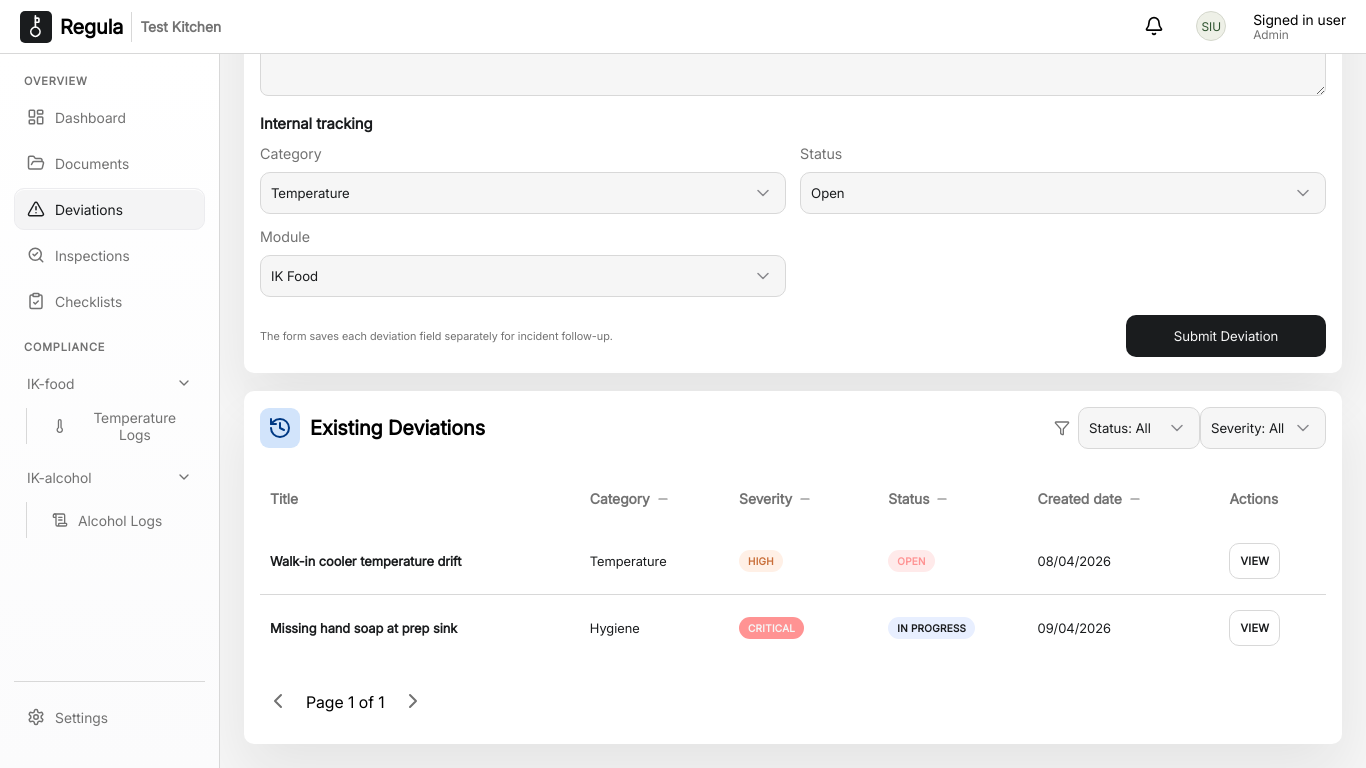
Test: Deviation view › opens deviation details and resolves an existing deviation
The image size is (1366, 768).
(page scrolled)
Click the button "View" in the row of "Walk-in cooler temperature drift" at coordinates (1255, 561), box [1229, 543, 1280, 579]
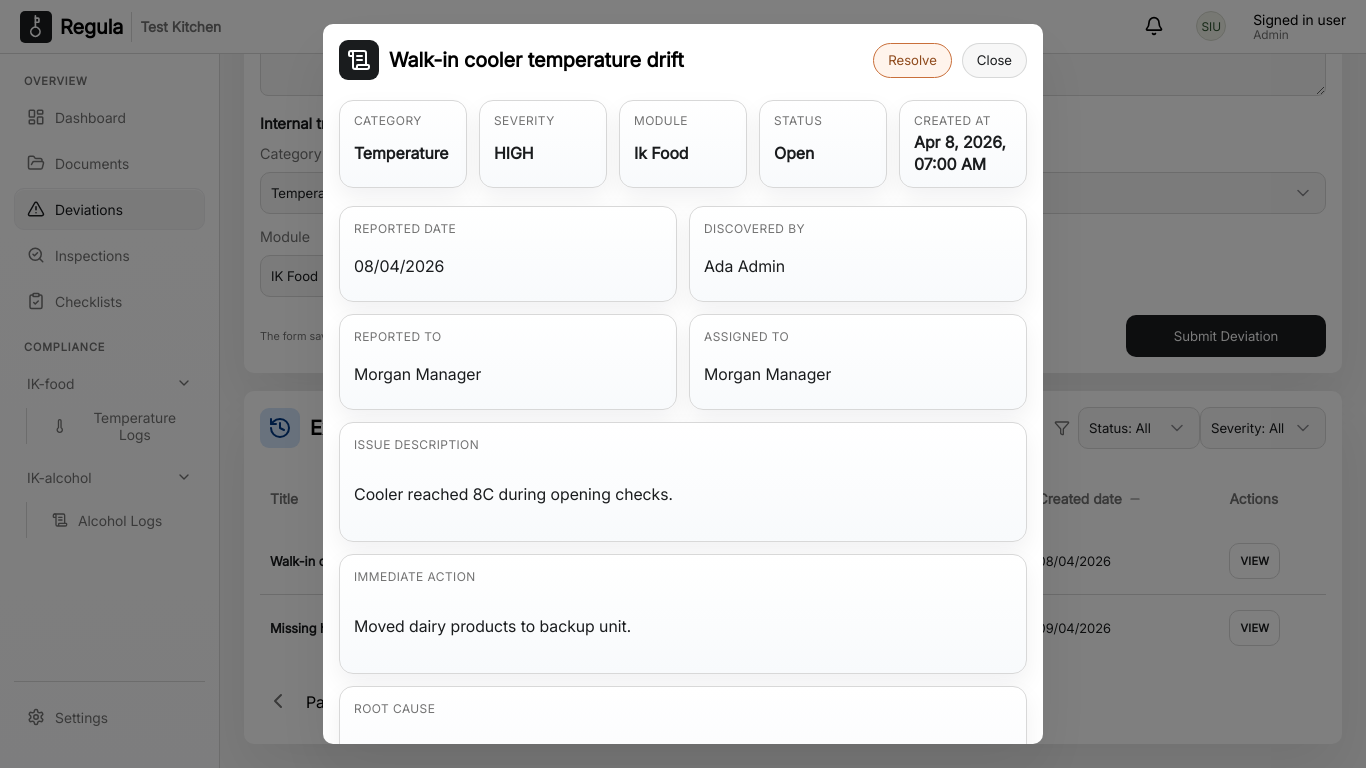
expect the text "Walk-in cooler temperature drift" is shown: met, box [389, 48, 684, 72]
expect the text "Category" reads "Temperature": met, box [354, 143, 449, 163]
Click the button "Resolve" at coordinates (913, 61), box [873, 43, 952, 78]
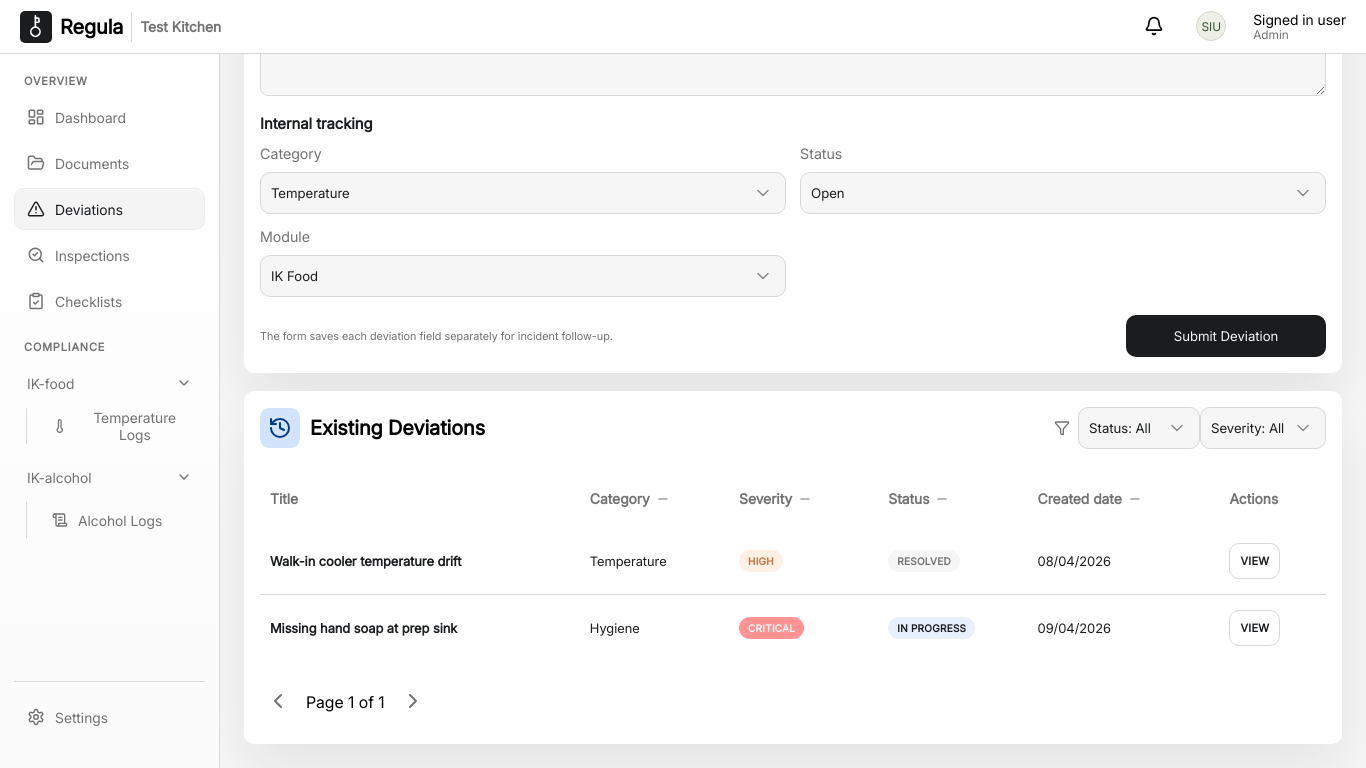
Click the button "View" in the row of "Walk-in cooler temperature drift" at coordinates (1255, 561), box [1229, 543, 1280, 579]
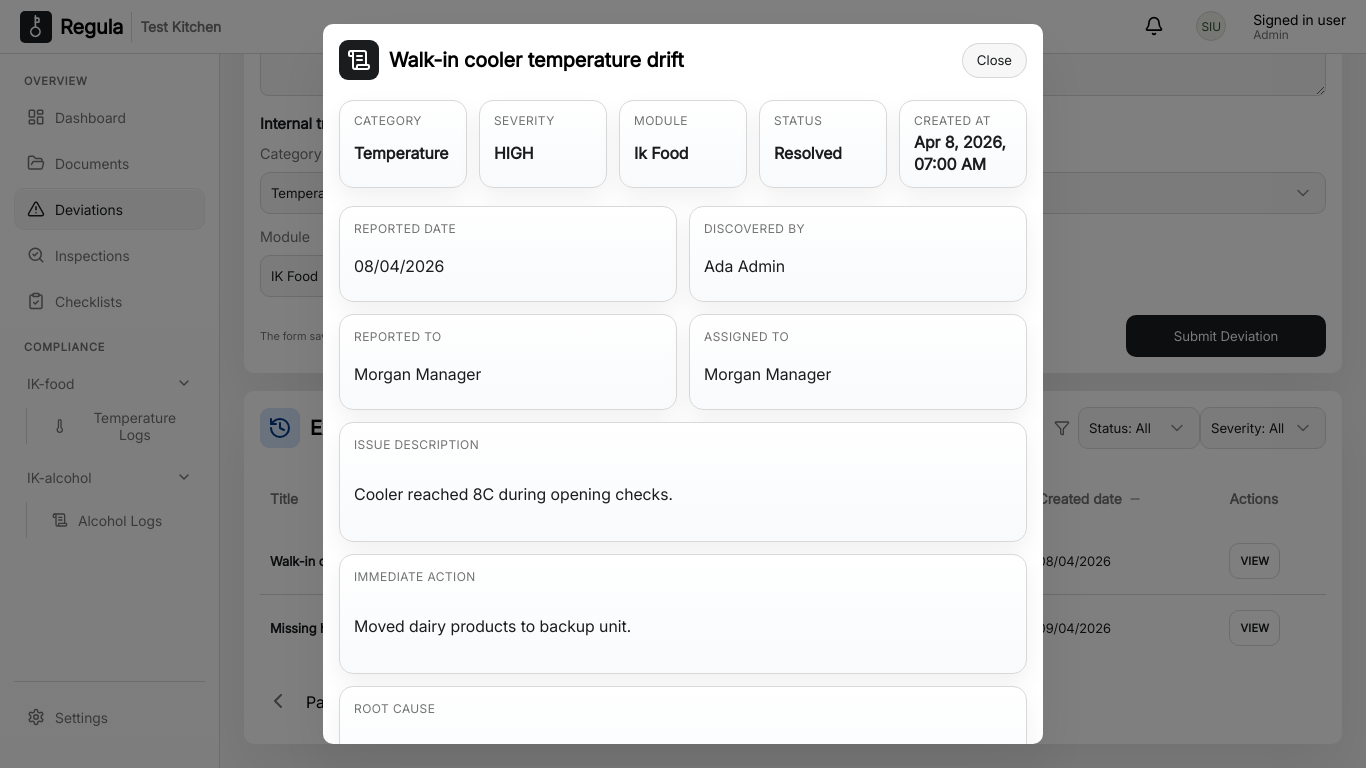
expect the text "Walk-in cooler temperature drift" is shown: met, box [389, 48, 684, 72]
expect the text "Status" reads "Resolved": met, box [774, 143, 842, 163]
